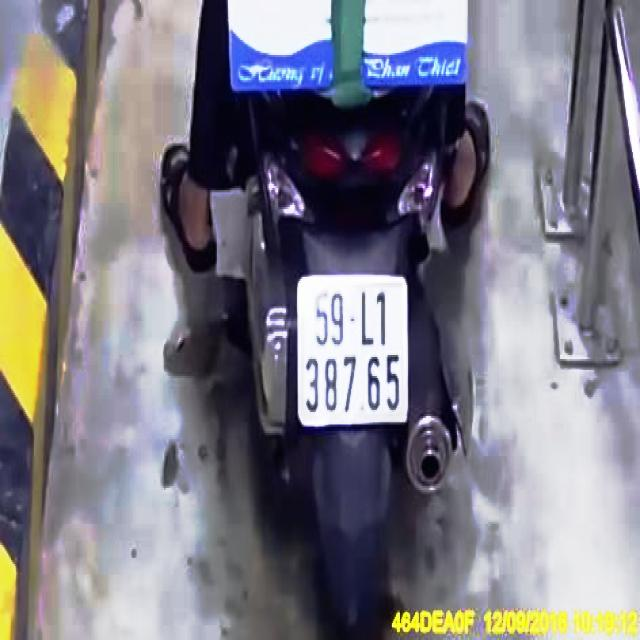license_plate: (301, 280, 410, 425)
